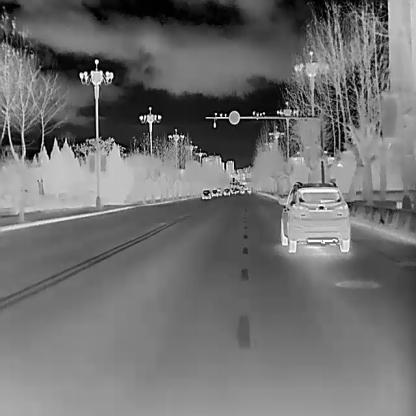car: (281, 180, 350, 251), (200, 189, 210, 200), (210, 188, 218, 198), (223, 188, 229, 196)
